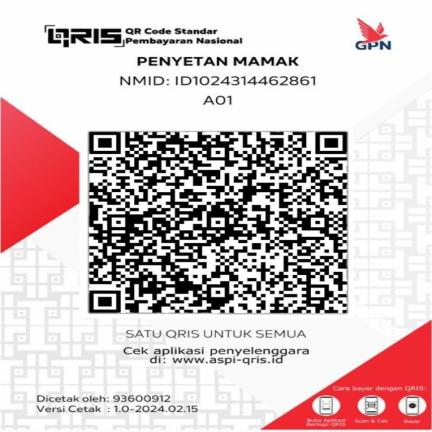Barcode_Palsu: (81, 123, 356, 321)
